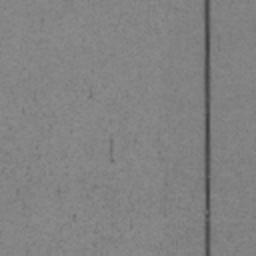Scratches: (204, 0, 211, 256)
